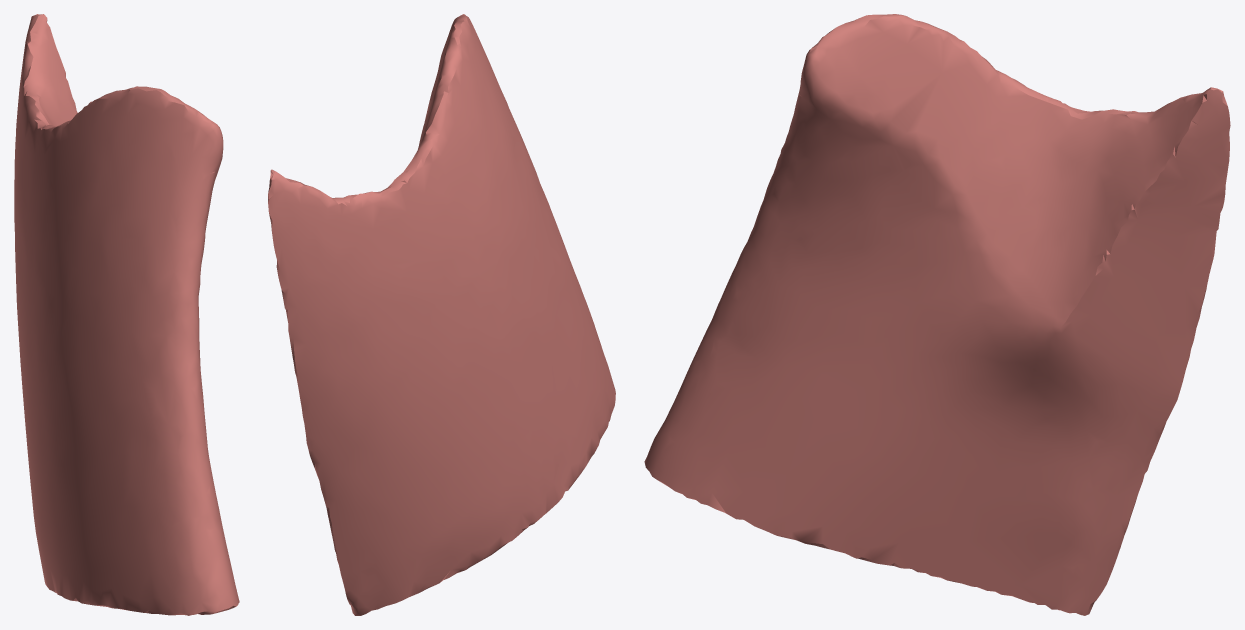
The model's file is fma40841-o_mm1846.glb.
The picture shows the model from 3 angles, left to right: view 1: azimuth 30°, elevation 25°; view 2: azimuth 150°, elevation 25°; view 3: azimuth 270°, elevation 25°; orthographic projection. The views are drawn at different scales.
Visible parts, largest first — view 1: FMA40841-O_MM1846; view 2: FMA40841-O_MM1846; view 3: FMA40841-O_MM1846.
Boxes of the visible parts, left/top/right/bottom form: FMA40841-O_MM1846: left=14, top=14, right=239, bottom=615; FMA40841-O_MM1846: left=268, top=14, right=615, bottom=615; FMA40841-O_MM1846: left=644, top=14, right=1230, bottom=615.
Size of the model in its own units: 0.00673 by 0.0226 by 0.0202.
